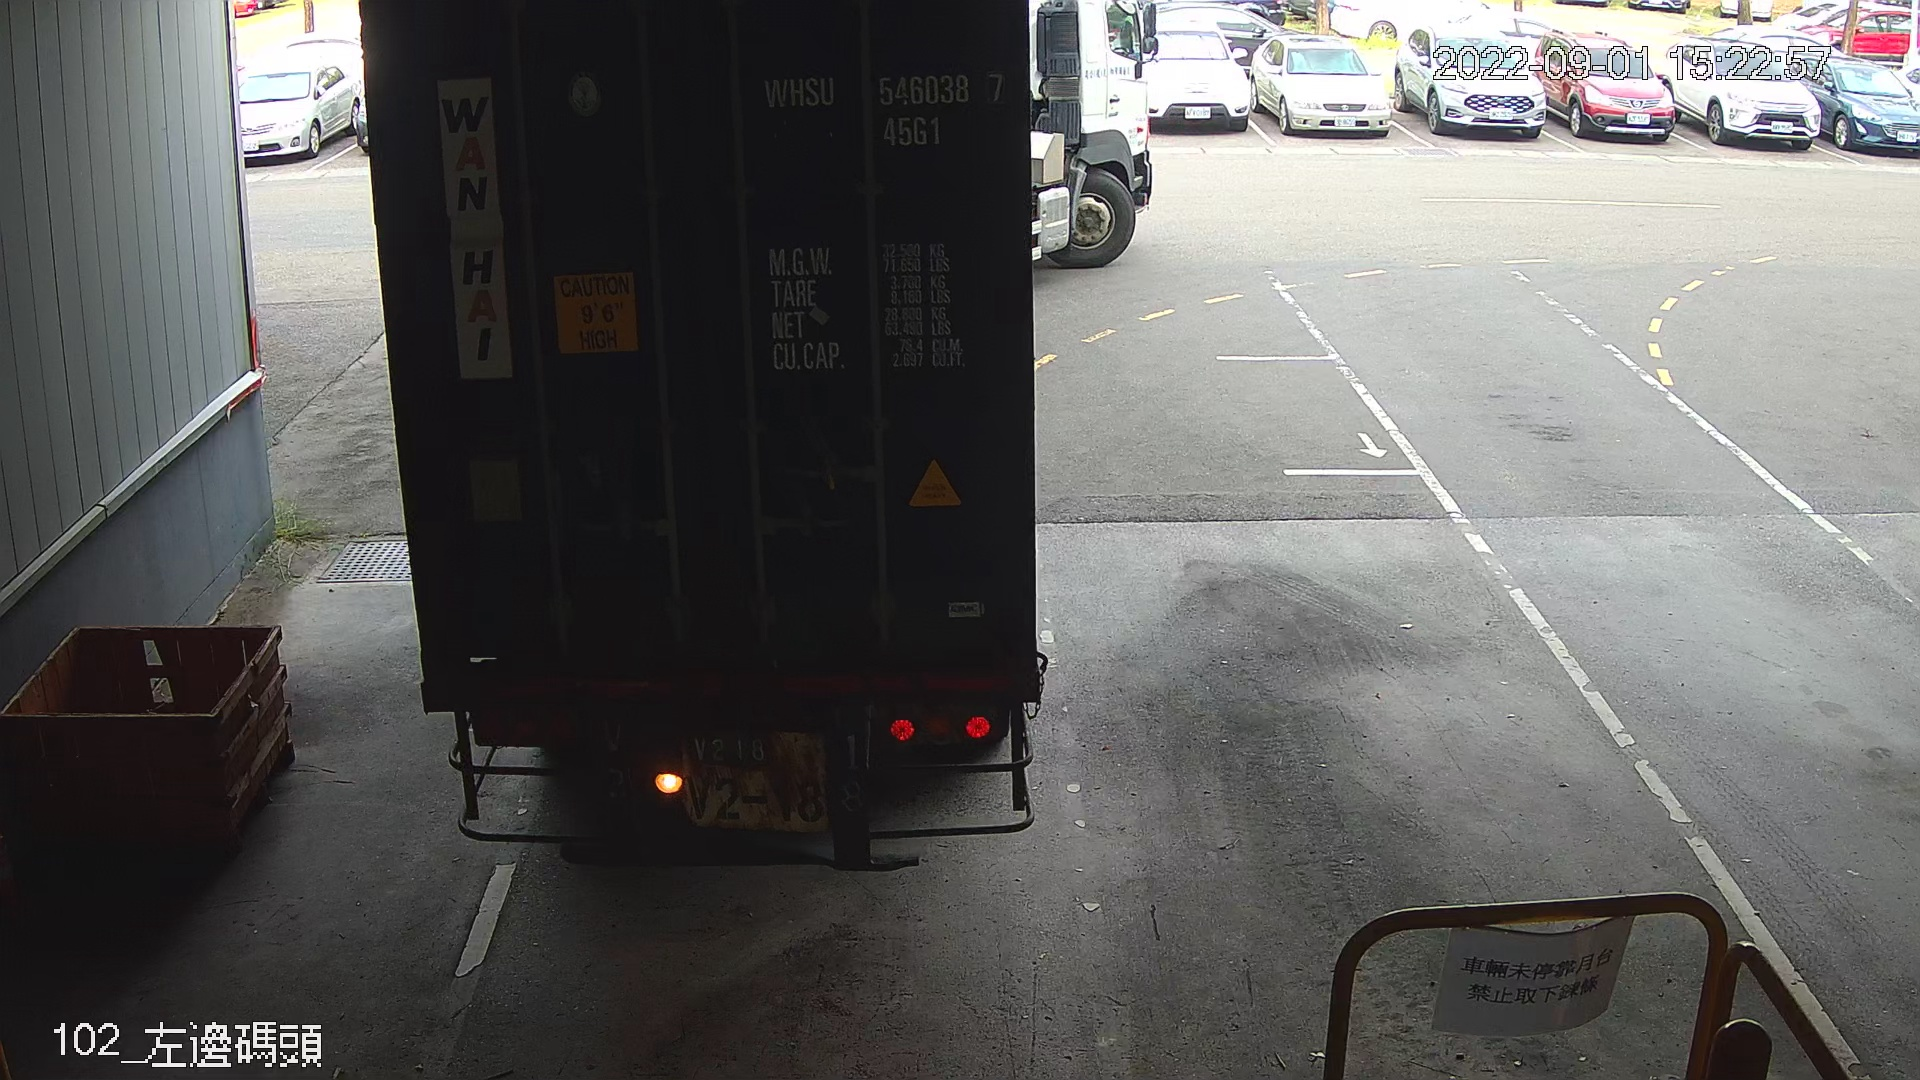container: (754, 63, 1021, 158)
